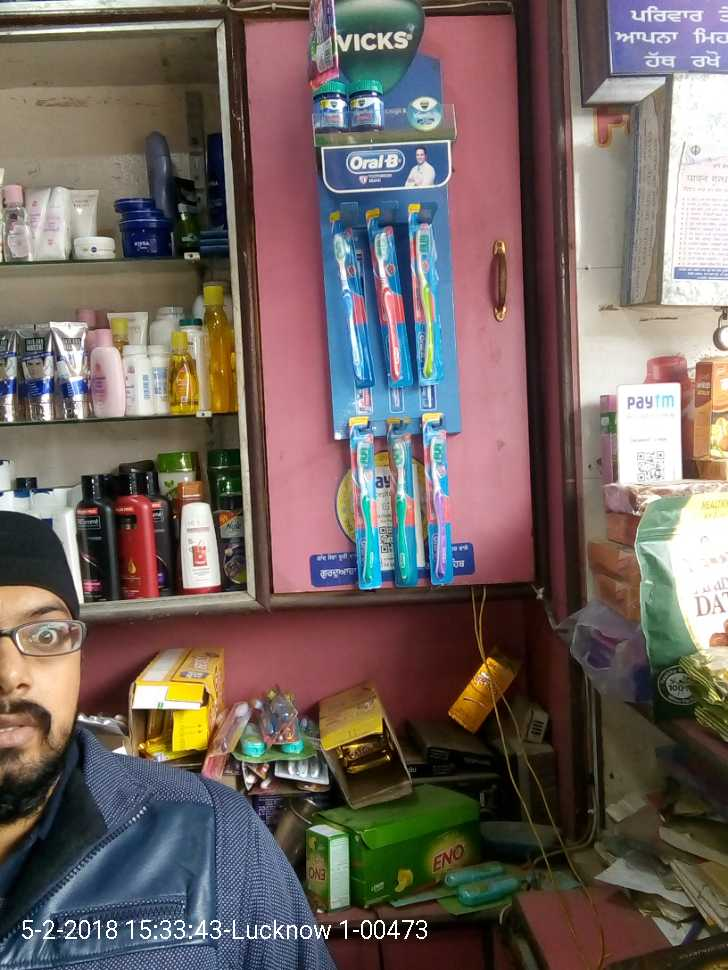pharmacy: (364, 207, 416, 383), (329, 207, 375, 384), (403, 200, 447, 384), (345, 415, 383, 589), (382, 417, 420, 584), (422, 410, 455, 587), (345, 75, 388, 131), (312, 77, 349, 136)
